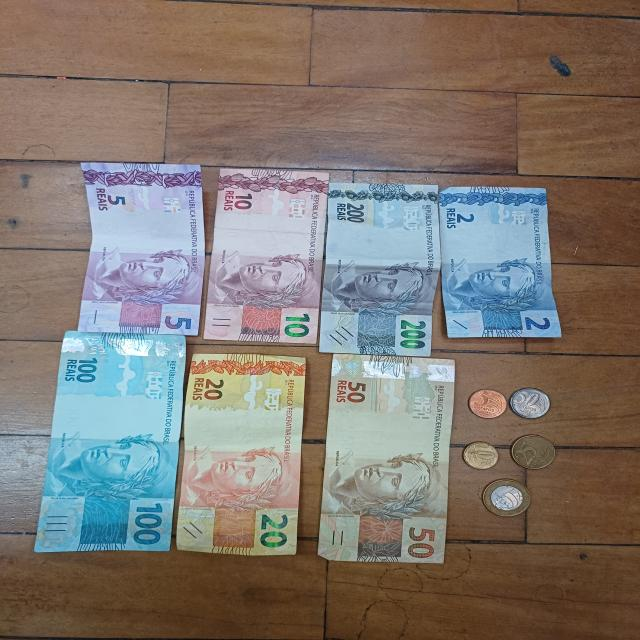1 real: (481, 478, 535, 518)
25 cents: (510, 435, 557, 470)
50 cents: (510, 387, 550, 420)
